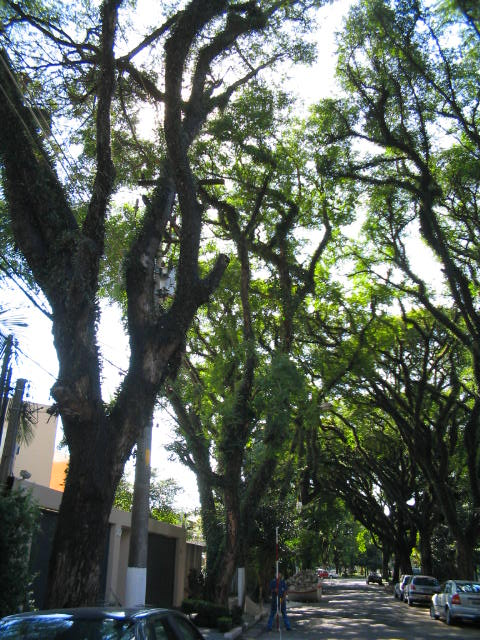stem: (197, 559, 242, 623)
stick: (270, 526, 282, 630)
tree: (121, 88, 370, 623)
